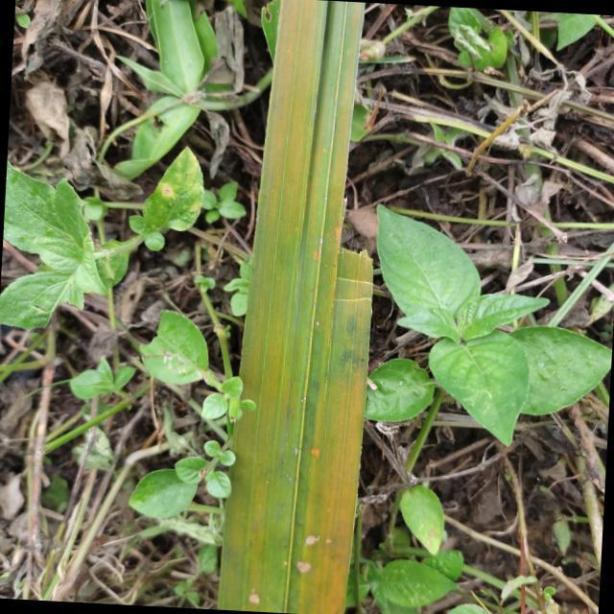Megnesium: (224, 0, 372, 614)
